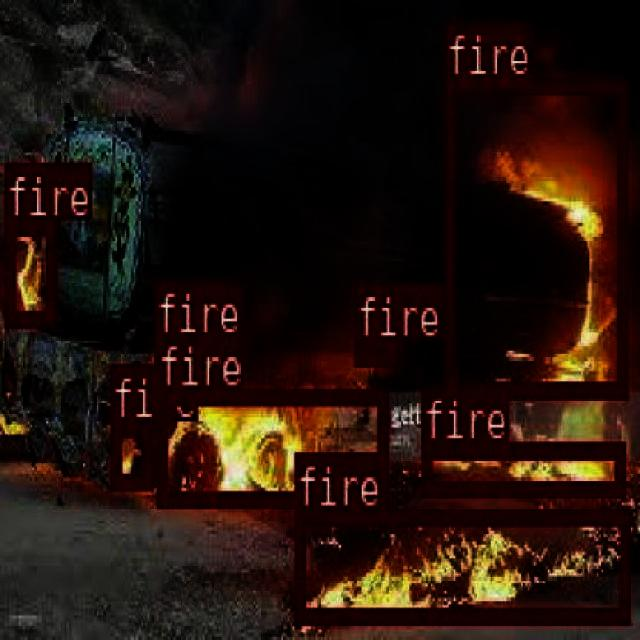fire: (442, 78, 626, 394), (294, 509, 628, 620), (156, 387, 387, 505), (420, 438, 622, 492), (3, 217, 54, 323), (110, 418, 152, 488), (152, 334, 198, 382), (354, 339, 398, 361)
